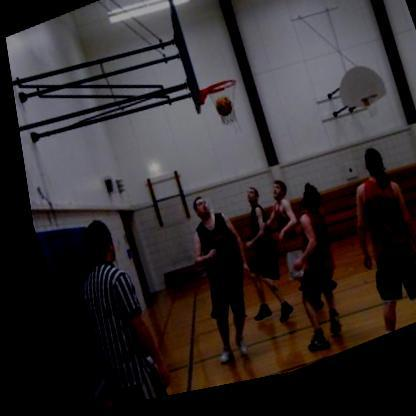basketball: (205, 100, 232, 128)
